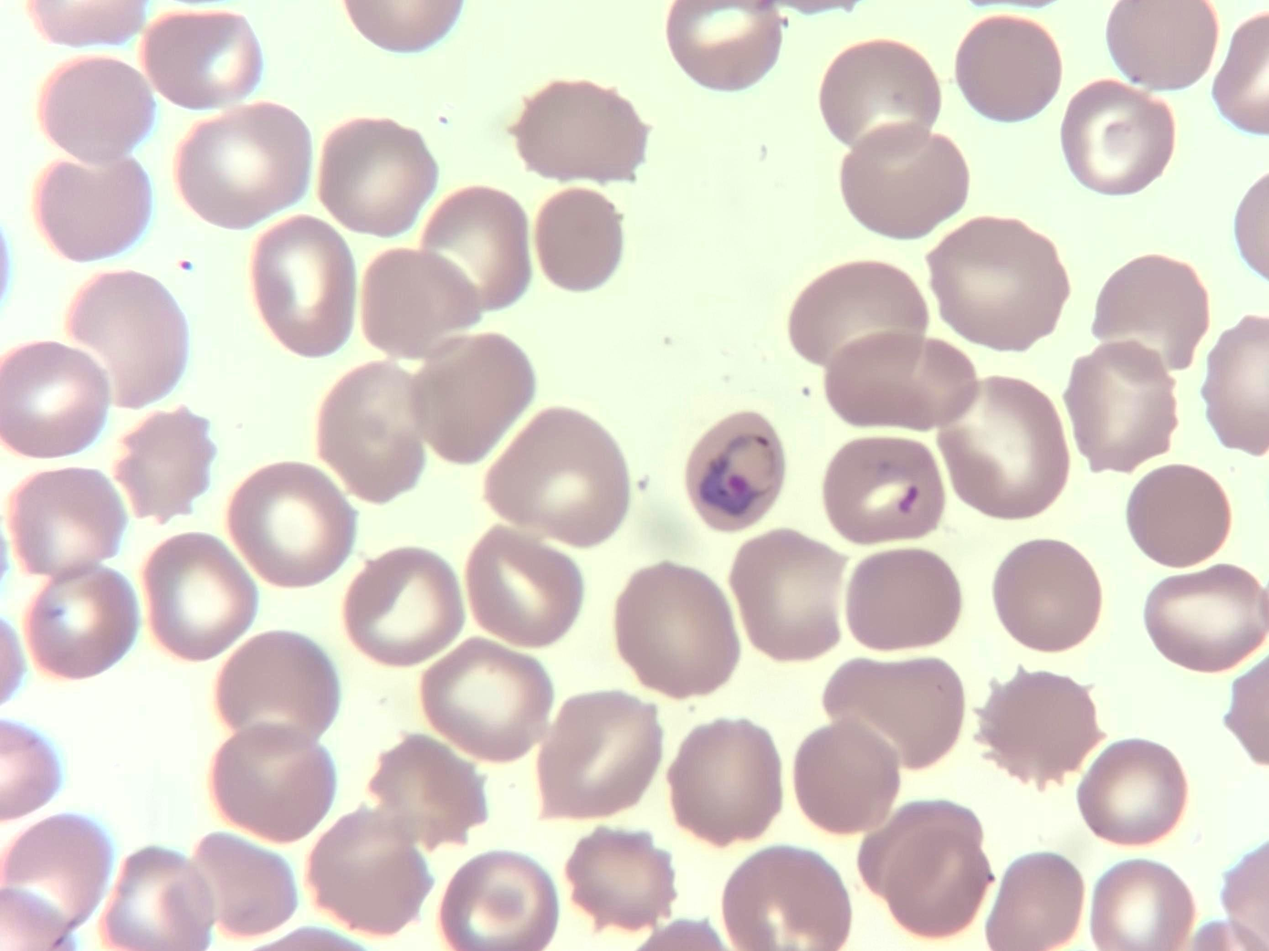Infected: (682, 409, 784, 536)
Uninfected: (488, 405, 628, 551), (929, 218, 1068, 355), (945, 373, 1068, 519), (614, 557, 738, 696), (64, 272, 186, 411), (178, 101, 307, 230), (224, 459, 356, 585), (1068, 336, 1185, 476), (539, 692, 666, 819), (317, 361, 431, 501), (320, 113, 441, 244), (310, 802, 431, 932), (461, 523, 587, 645), (217, 628, 338, 754), (511, 76, 644, 190), (819, 40, 945, 160), (733, 528, 848, 659), (214, 722, 336, 845), (790, 263, 922, 376), (342, 544, 463, 667), (981, 667, 1100, 792), (673, 716, 787, 846), (425, 642, 546, 763), (844, 119, 966, 239), (142, 535, 260, 659), (829, 332, 977, 429), (422, 336, 536, 461), (826, 660, 959, 767), (420, 186, 530, 311), (1146, 569, 1269, 680), (1098, 247, 1204, 375), (365, 731, 484, 845), (721, 845, 848, 951), (9, 468, 128, 578), (363, 249, 473, 368), (256, 218, 351, 355), (5, 815, 108, 939), (822, 437, 945, 540), (27, 560, 135, 677), (2, 343, 111, 457), (991, 535, 1099, 650), (142, 8, 262, 111), (1064, 76, 1172, 190), (185, 829, 300, 936), (1072, 732, 1185, 840), (39, 149, 151, 257), (41, 62, 155, 168), (438, 852, 557, 951), (854, 799, 983, 890), (100, 843, 208, 951), (851, 548, 960, 655), (568, 824, 677, 929), (886, 827, 989, 938), (956, 12, 1064, 117), (799, 729, 901, 837), (1109, 0, 1225, 93), (119, 409, 213, 522), (1127, 462, 1231, 562), (536, 181, 625, 295), (671, 0, 782, 91), (1091, 861, 1197, 951), (986, 850, 1079, 951)
